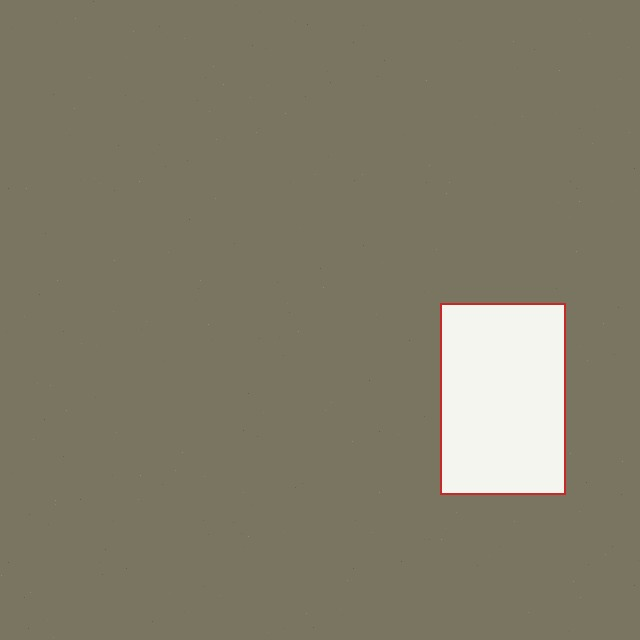book: (440, 303, 565, 494)
